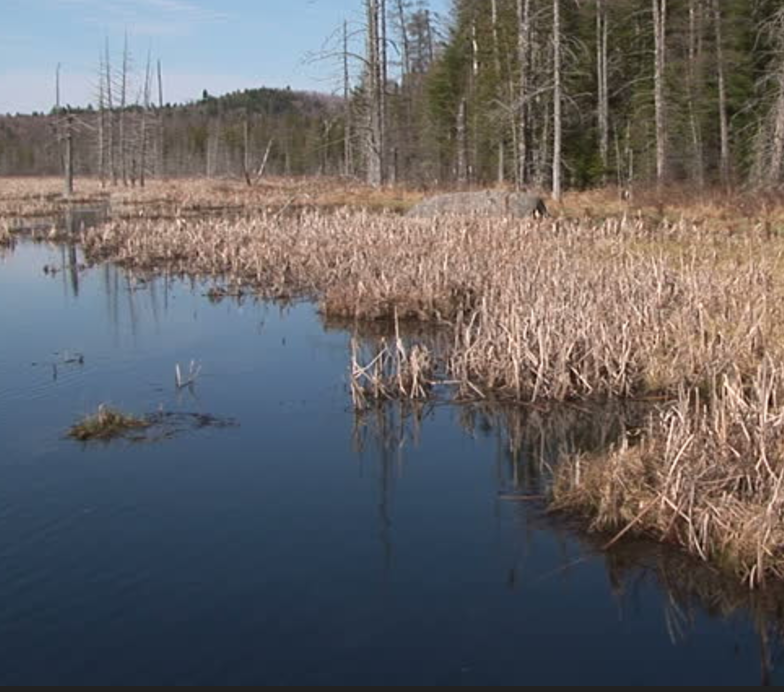sky: (1, 2, 373, 88)
tree: (539, 1, 578, 199)
vegetation: (399, 211, 784, 358), (583, 388, 784, 550), (103, 224, 465, 282)
water: (1, 235, 774, 681)
